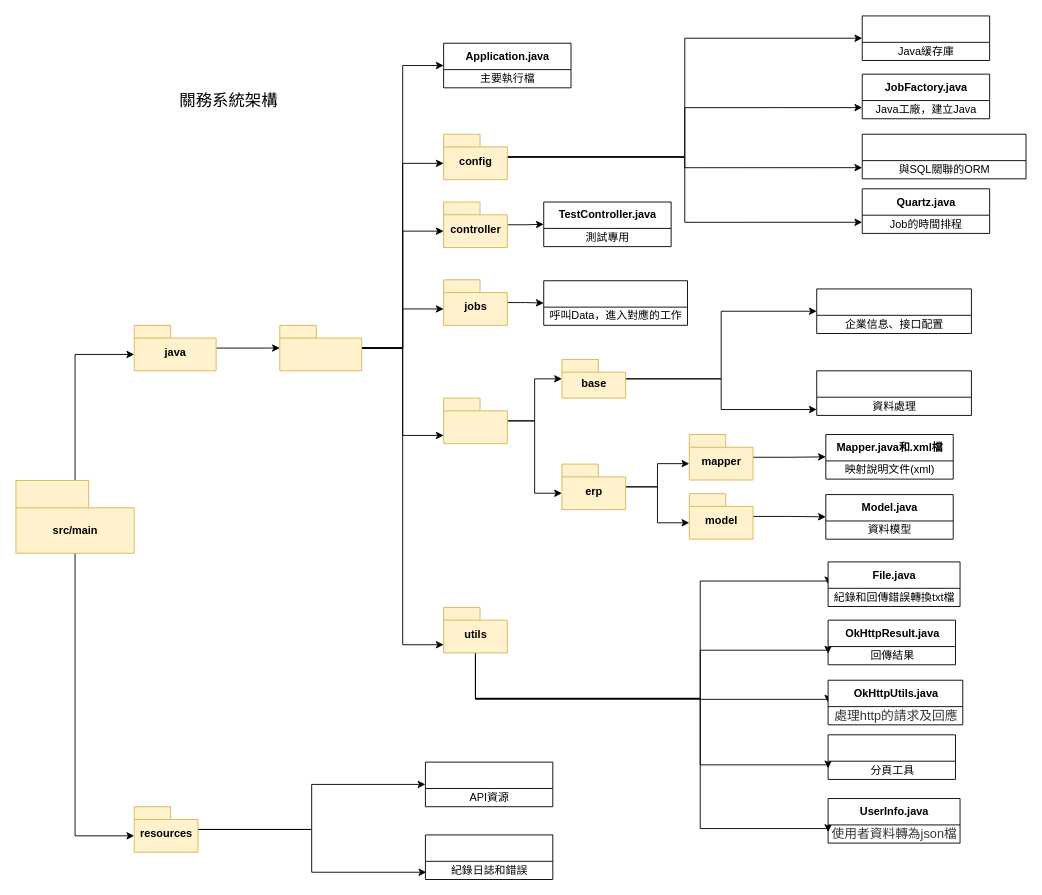
The diagram is 1042 pixels wide and 895 high, and some of its shapes have lost their labels. The shapes that lost their labels are listed below. From the top down, each one's box as (x1, y1, x2, y2) in pixels, then its label:
(861, 15, 990, 61): Caffeine.java
(861, 133, 1026, 179): MyBatisMapperScanner.java
(543, 280, 688, 325): Job.java
(816, 288, 971, 334): CommmonService.java
(279, 324, 362, 371): com.dcjet.cs
(816, 370, 971, 415): DataExchangeService.java
(443, 397, 507, 444): service
(827, 734, 956, 779): PageUtil.java
(425, 761, 553, 807): Application.yml
(425, 834, 553, 880): log4j2.xml
